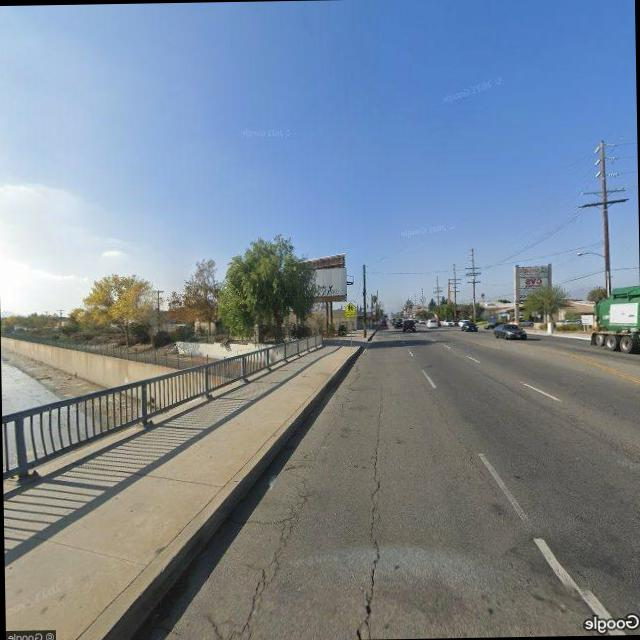crack: (203, 473, 318, 640)
pothole: (202, 474, 319, 640), (346, 398, 399, 638)
